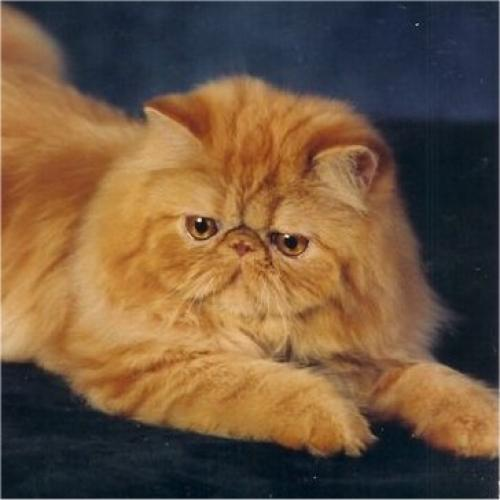persian: (114, 81, 404, 336)
